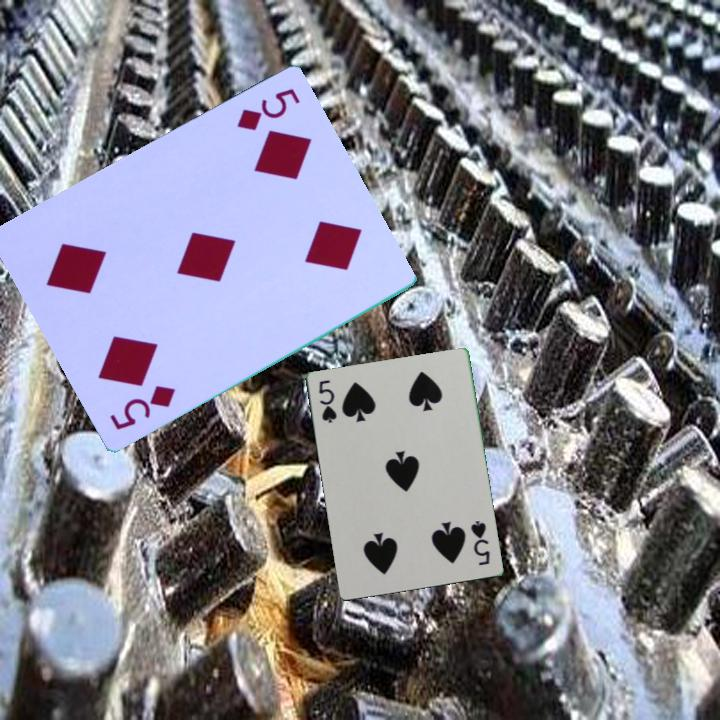5d: (106, 382, 179, 434), (233, 85, 303, 135)
5s: (467, 517, 493, 569), (315, 376, 340, 426)
